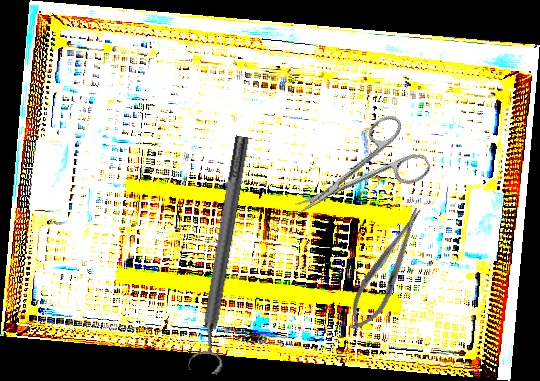Fixation Ring: (183, 133, 264, 376)
Iris Scissors: (278, 108, 435, 239)
Needle Holder: (340, 201, 434, 338)
